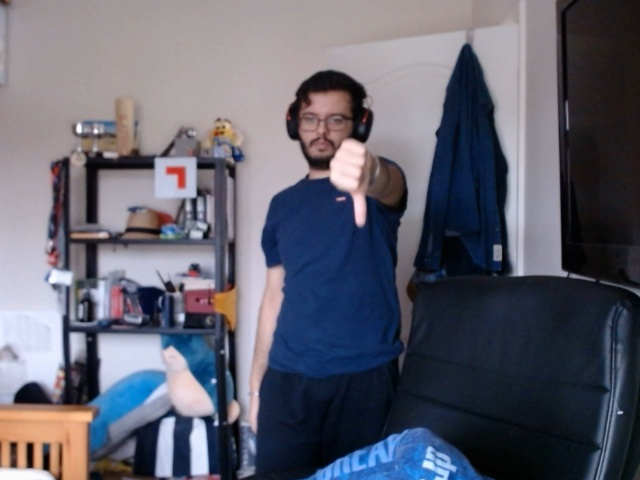Thumbs down: (322, 133, 380, 242)
